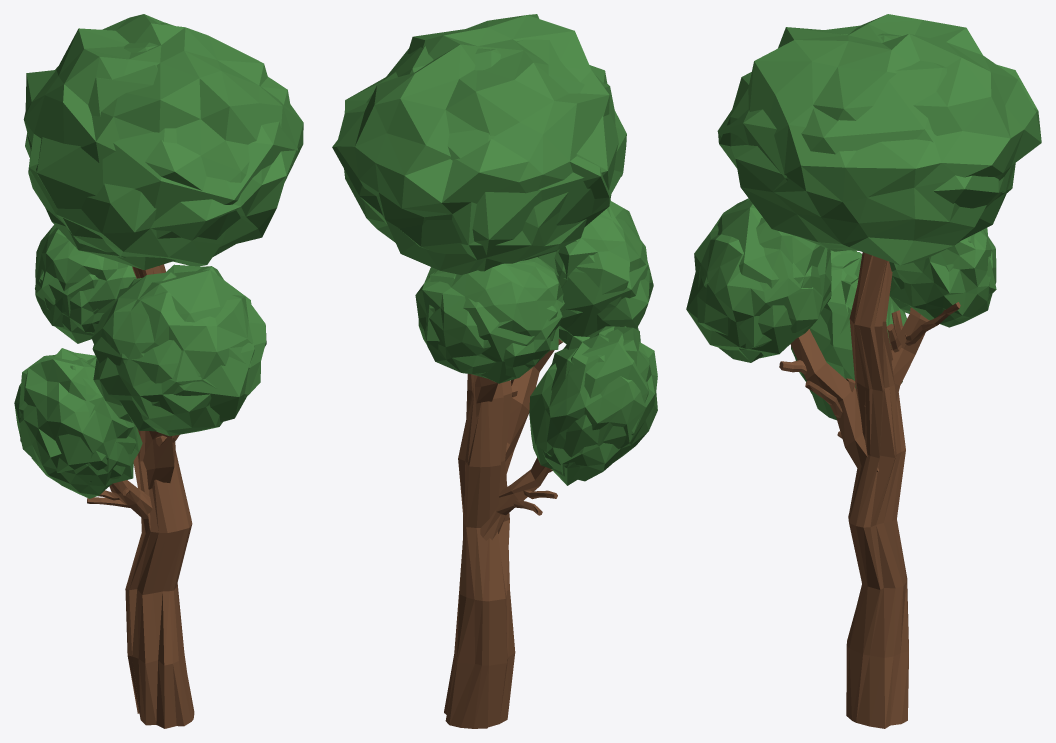
The model's file is SurvivalTallTree.fbx.
3 views of the same model, side by side, from view 1: azimuth 30°, elevation 25°; view 2: azimuth 150°, elevation 25°; view 3: azimuth 270°, elevation 25° (orthographic).
Parts seen in each view (by area): view 1: GeneratedLeaves, GeneratedLeaves_2, LOD_Test_3, GeneratedBranch, GeneratedLeaves_1, LOD_Test_1, GeneratedLeaves_3, LOD_Test, GeneratedBranch_2, LOD_Test_2, GeneratedBranch_1; view 2: GeneratedLeaves, GeneratedBranch, LOD_Test_3, GeneratedLeaves_3, GeneratedLeaves_1, GeneratedLeaves_2, LOD_Test, LOD_Test_1, LOD_Test_2, GeneratedBranch_2, GeneratedBranch_1, GeneratedBranch_3; view 3: GeneratedLeaves, GeneratedBranch, GeneratedLeaves_2, LOD_Test_3, GeneratedLeaves_3, LOD_Test_1, GeneratedLeaves_1, GeneratedBranch_2, GeneratedBranch_3, LOD_Test.
Part boxes in pixels (bbox=[...]): GeneratedLeaves: bbox=[23, 14, 303, 266]; GeneratedLeaves_2: bbox=[91, 264, 266, 436]; LOD_Test_3: bbox=[25, 22, 298, 270]; GeneratedBranch: bbox=[125, 264, 194, 728]; GeneratedLeaves_1: bbox=[14, 348, 142, 498]; LOD_Test_1: bbox=[92, 270, 254, 431]; GeneratedLeaves_3: bbox=[35, 224, 136, 333]; LOD_Test: bbox=[19, 355, 136, 486]; GeneratedBranch_2: bbox=[143, 431, 174, 489]; LOD_Test_2: bbox=[39, 269, 98, 343]; GeneratedBranch_1: bbox=[109, 480, 152, 534]; GeneratedLeaves: bbox=[336, 14, 626, 274]; GeneratedBranch: bbox=[444, 374, 515, 728]; LOD_Test_3: bbox=[332, 39, 618, 271]; GeneratedLeaves_3: bbox=[415, 257, 563, 378]; GeneratedLeaves_1: bbox=[529, 326, 657, 481]; GeneratedLeaves_2: bbox=[538, 200, 653, 344]; LOD_Test: bbox=[542, 326, 648, 485]; LOD_Test_1: bbox=[554, 200, 647, 336]; LOD_Test_2: bbox=[425, 272, 564, 383]; GeneratedBranch_2: bbox=[505, 350, 554, 474]; GeneratedBranch_1: bbox=[480, 457, 550, 540]; GeneratedBranch_3: bbox=[475, 376, 497, 416]; GeneratedLeaves: bbox=[718, 14, 1041, 265]; GeneratedBranch: bbox=[846, 252, 908, 728]; GeneratedLeaves_2: bbox=[694, 198, 831, 362]; LOD_Test_3: bbox=[717, 25, 1015, 232]; GeneratedLeaves_3: bbox=[889, 229, 996, 327]; LOD_Test_1: bbox=[686, 199, 831, 358]; GeneratedLeaves_1: bbox=[793, 250, 906, 420]; GeneratedBranch_2: bbox=[790, 329, 878, 471]; GeneratedBranch_3: bbox=[864, 307, 929, 406]; LOD_Test: bbox=[791, 252, 891, 393].
Size of what is drawn, in the model's own units: 1090 by 2606 by 1233.
